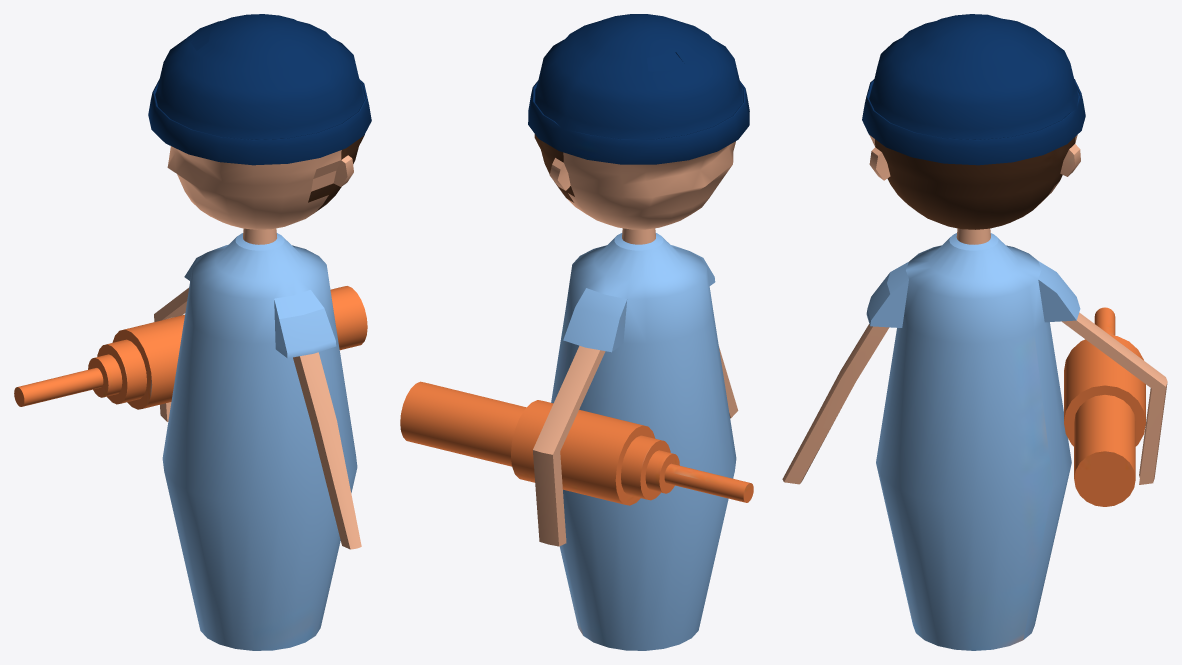
File: Kid.fbx
3 renders of one model, left to right at view 1: azimuth 30°, elevation 25°; view 2: azimuth 150°, elevation 25°; view 3: azimuth 270°, elevation 25°, orthographic.
Parts seen in each view (by area): view 1: pSphere3; view 2: pSphere3; view 3: pSphere3.
Boxes of the visible parts, x1,y1,x2,y2 form: pSphere3: (14,14,371,650); pSphere3: (400,14,753,650); pSphere3: (782,14,1167,650).
Size of the model in its own units: 3.01 by 5.18 by 3.01.
